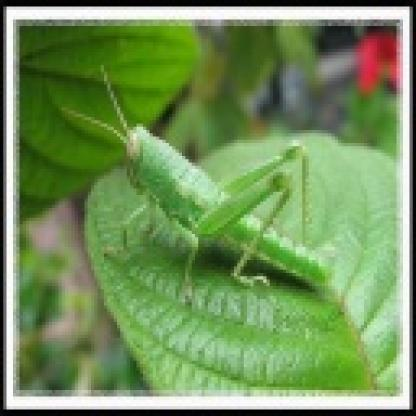grasshopper: (96, 90, 344, 302)
